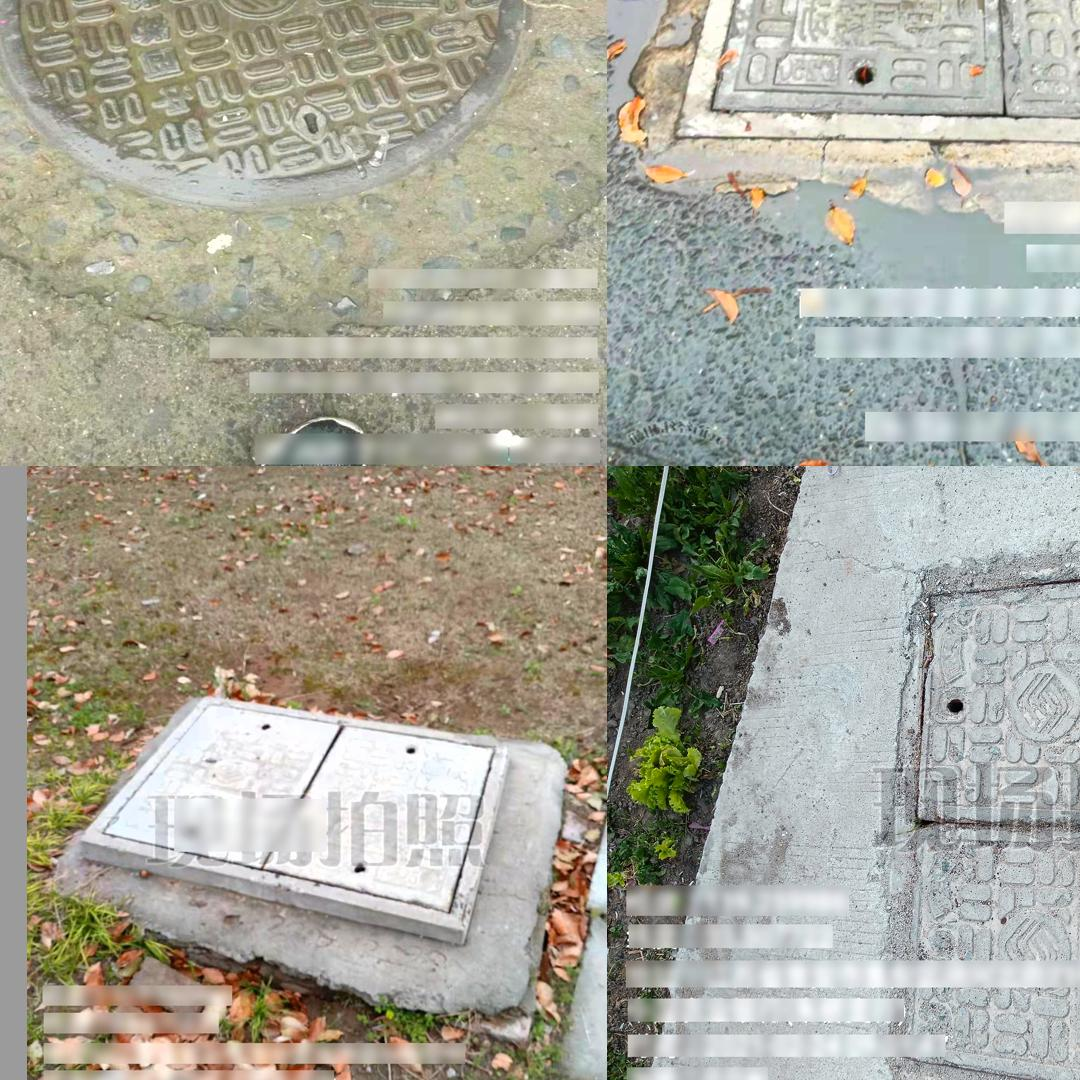good: (0, 0, 526, 214), (80, 696, 509, 947), (899, 556, 1080, 1080), (674, 0, 1080, 143)
